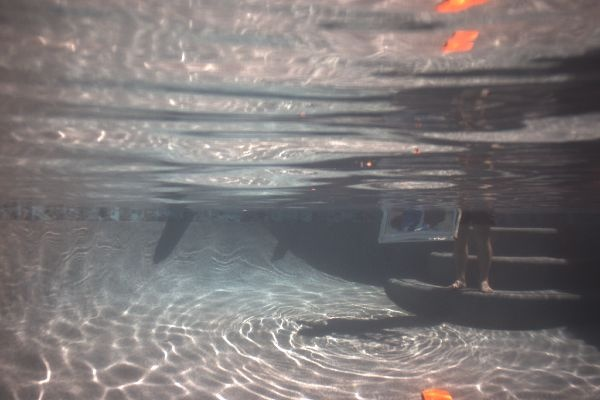path: (422, 388, 453, 400)
torpille: (378, 208, 461, 243)
torpille_target: (429, 208, 446, 224), (390, 216, 400, 228)
